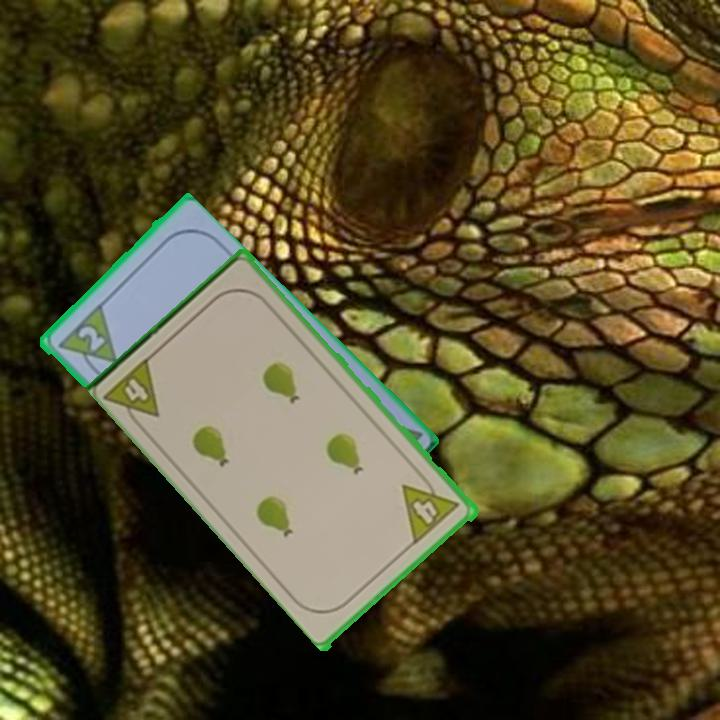2p: (53, 302, 120, 381)
4p: (102, 352, 164, 434), (399, 468, 463, 546)
